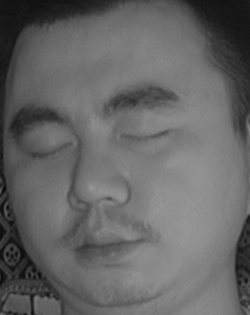blink: (119, 115, 170, 154), (26, 131, 75, 167)
mouth: (61, 218, 146, 273)
